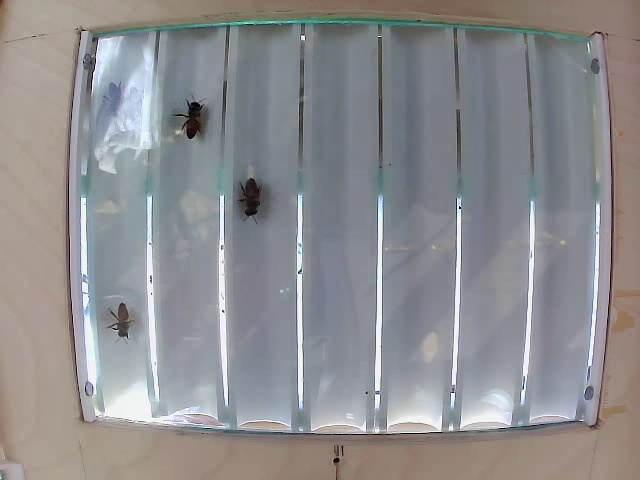bee: (109, 287, 151, 340), (232, 174, 271, 229), (179, 96, 216, 145), (97, 72, 130, 114)
